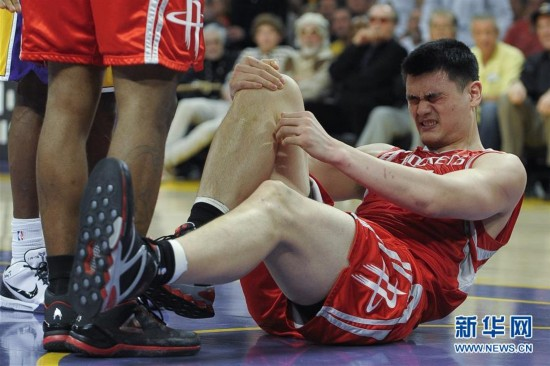10+: (2, 1, 549, 354)
down: (61, 26, 526, 346)
